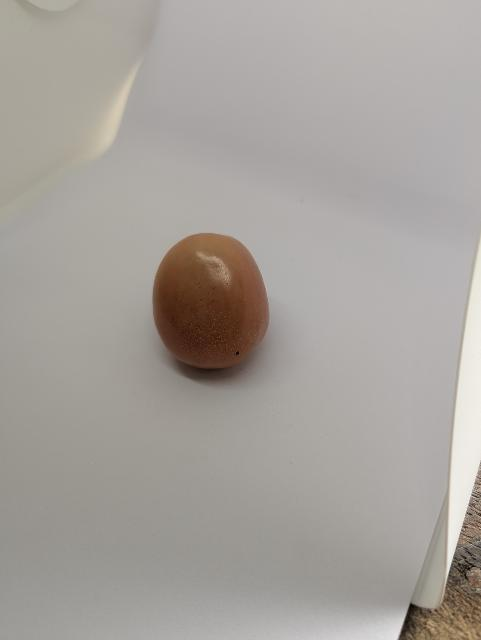turning: (146, 228, 283, 375)
